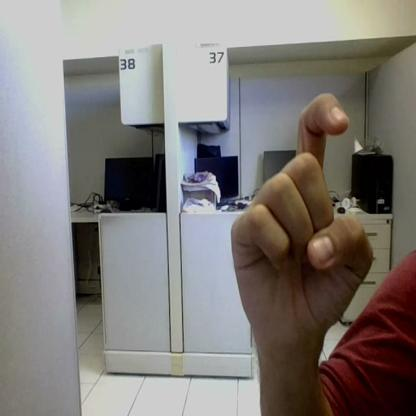X: (232, 94, 374, 330)
